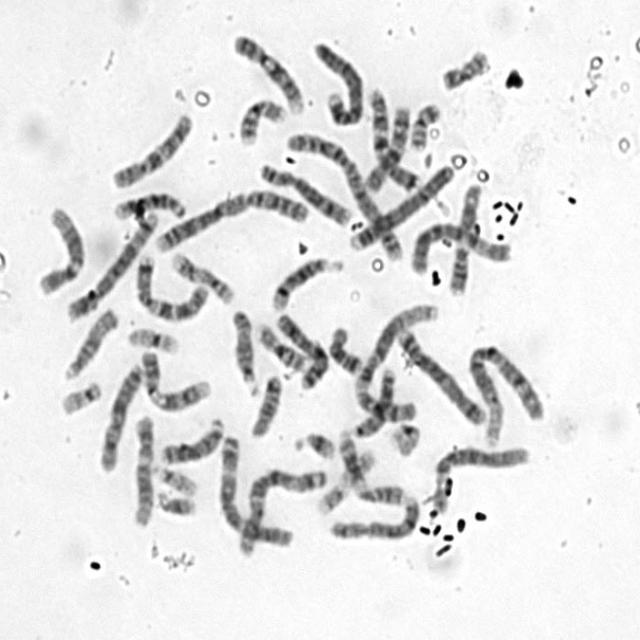A1: (354, 302, 438, 423), (465, 345, 547, 449)
A2: (284, 132, 406, 262), (152, 189, 310, 255)
A3: (217, 434, 295, 549), (238, 469, 327, 558)
B4: (348, 165, 454, 252), (312, 39, 365, 126)
B5: (65, 210, 160, 322), (396, 329, 486, 427)
C10: (111, 112, 193, 191), (363, 102, 412, 194)
C11: (338, 429, 408, 506), (446, 183, 482, 296)
C12: (36, 206, 88, 298), (131, 415, 156, 529)
C6: (431, 443, 530, 516), (408, 222, 515, 277)
C7: (367, 84, 423, 194), (135, 254, 212, 326)
C8: (256, 162, 352, 228), (328, 496, 421, 542)
C9: (233, 32, 306, 115), (138, 349, 215, 413)
D13: (352, 365, 396, 440), (159, 417, 225, 466)
D14: (271, 254, 346, 313), (114, 193, 187, 219)
D15: (62, 307, 120, 384), (230, 309, 260, 398)
E16: (254, 320, 306, 372), (237, 98, 288, 150)
E17: (170, 248, 235, 306), (318, 449, 376, 514)
E18: (249, 373, 282, 438), (328, 324, 364, 376)
F19: (125, 326, 182, 356), (392, 423, 422, 458)
F20: (439, 47, 495, 93), (409, 104, 442, 153)
G21: (293, 426, 336, 464), (156, 490, 199, 520)
G22: (152, 464, 200, 498), (60, 378, 104, 414)
X: (97, 362, 144, 474), (275, 313, 330, 390)
